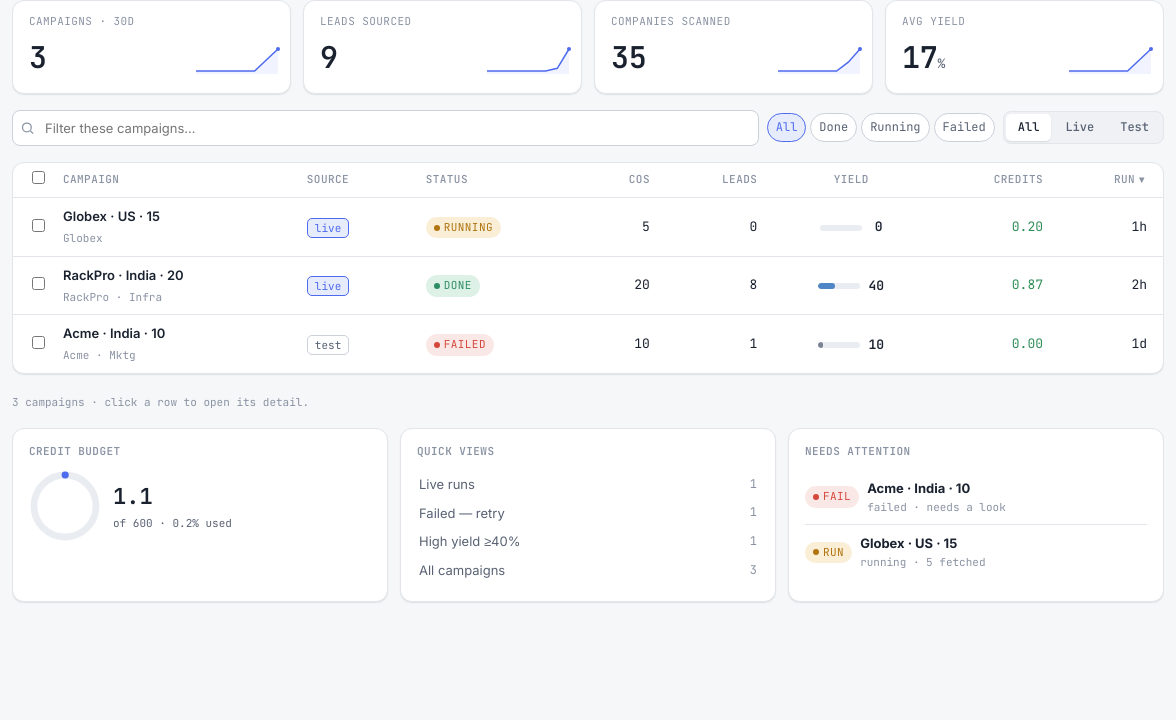
Test case: CampaignListView › filters the table by the status chips
The image size is (1176, 720).
Click the button "Failed" at (964, 128), box [934, 113, 995, 142]
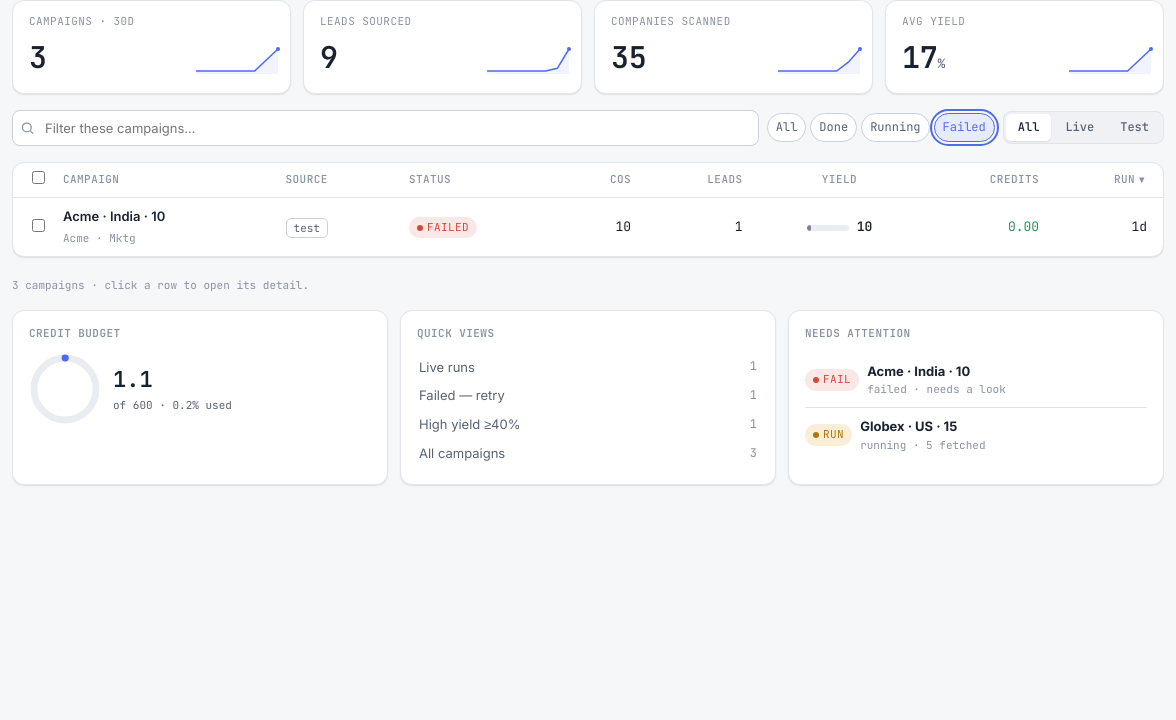
Expected: the link "Acme · India · 10" is shown, [63, 208, 165, 224]
Expected: the link "RackPro" is gone
